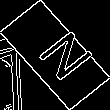N_SW: (21, 23, 89, 87)
